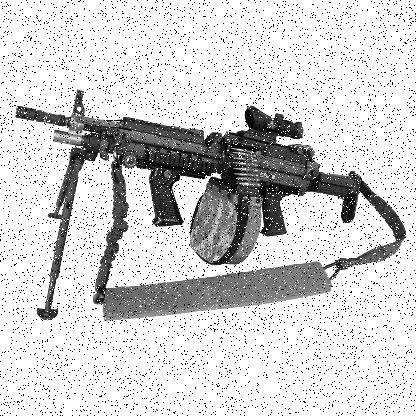gun: (16, 90, 356, 318)
